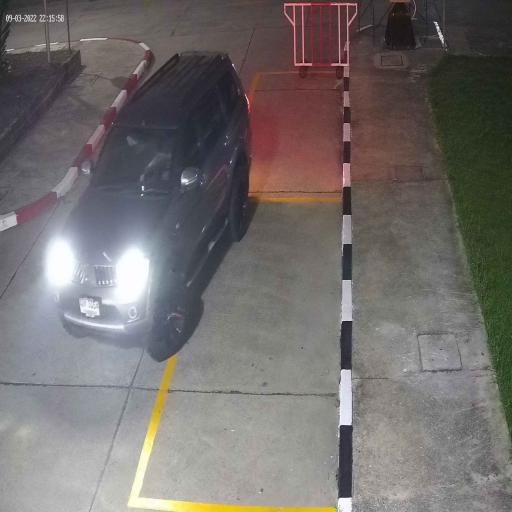car: (51, 50, 252, 360)
